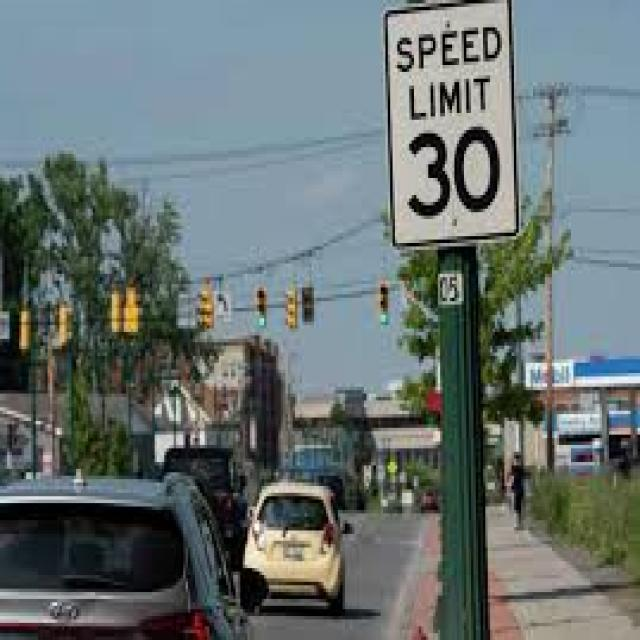speedLimit30: (390, 3, 514, 264)
